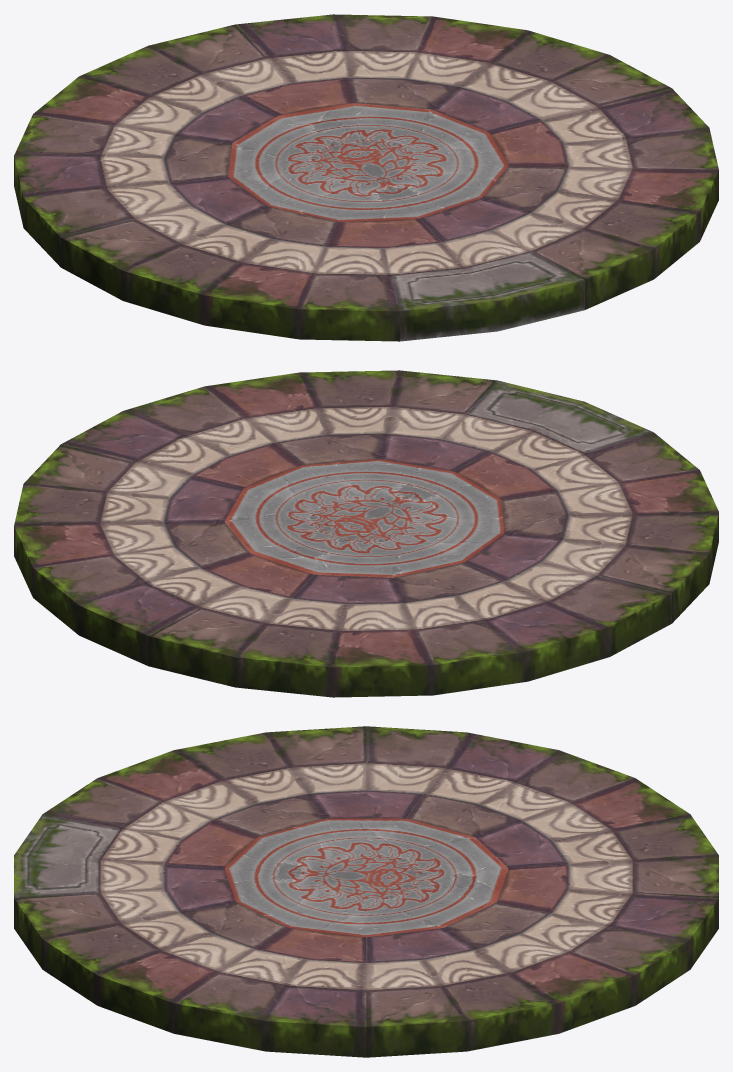
The model's file is shuijitan01.FBX.
3 renders of one model, top to bottom at view 1: azimuth 30°, elevation 25°; view 2: azimuth 150°, elevation 25°; view 3: azimuth 270°, elevation 25°, orthographic.
Visible parts, largest first — view 1: shuijitan; view 2: shuijitan; view 3: shuijitan.
Boxes of the visible parts, bbox=[...] form: shuijitan: bbox=[14, 14, 718, 341]; shuijitan: bbox=[14, 370, 718, 697]; shuijitan: bbox=[14, 726, 718, 1057].
Size of the model in its own units: 1347 by 1333 by 63.48.
